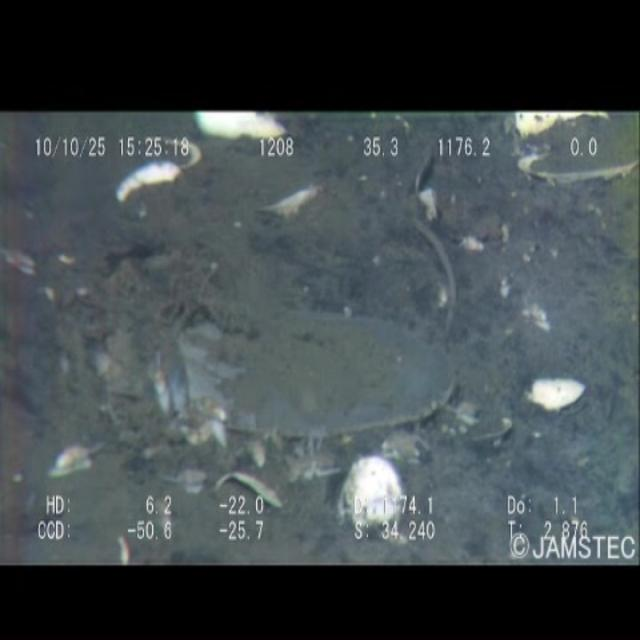Natual-Debris: (56, 175, 513, 468)
